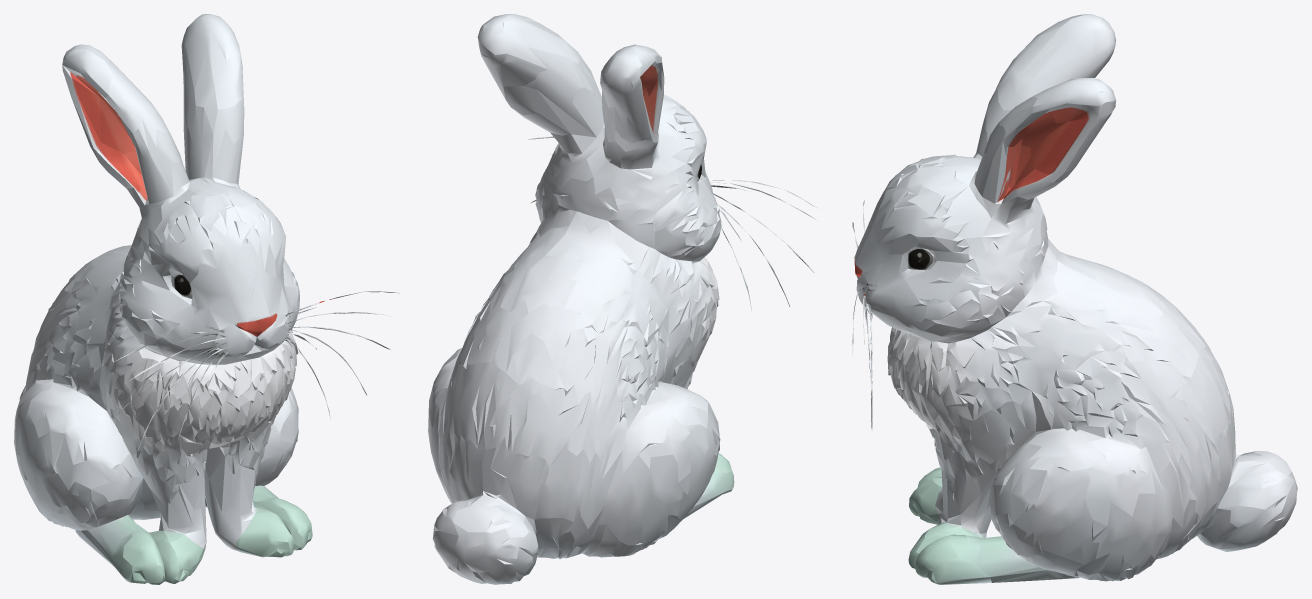
Rendered from rabbit.glb.
3 renders of one model, left to right at view 1: azimuth 30°, elevation 25°; view 2: azimuth 150°, elevation 25°; view 3: azimuth 270°, elevation 25°, orthographic. The views are drawn at different scales.
Size of the model in its own units: 1.2 by 1.9 by 1.56.
Materials: 1 (1 with a texture image).
